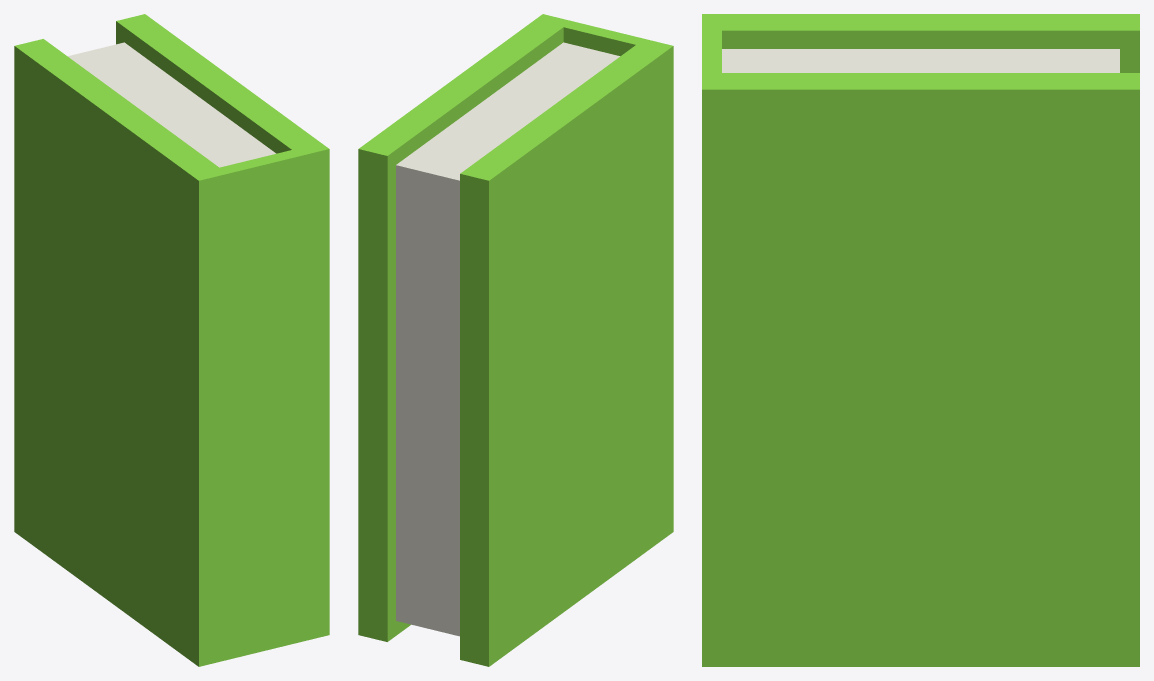
Rendered from Book_Green_Light.fbx.
The picture shows the model from 3 angles, left to right: view 1: azimuth 30°, elevation 25°; view 2: azimuth 150°, elevation 25°; view 3: azimuth 270°, elevation 25°; orthographic projection. The views are drawn at different scales.
Visible parts, largest first — view 1: pCube4; view 2: pCube4; view 3: pCube4.
Boxes of the visible parts, x1,y1,x2,y2 form: pCube4: [14, 14, 329, 666]; pCube4: [358, 14, 673, 666]; pCube4: [702, 14, 1139, 666].
Bounding box in the file's own units: 9 × 32 × 22.
